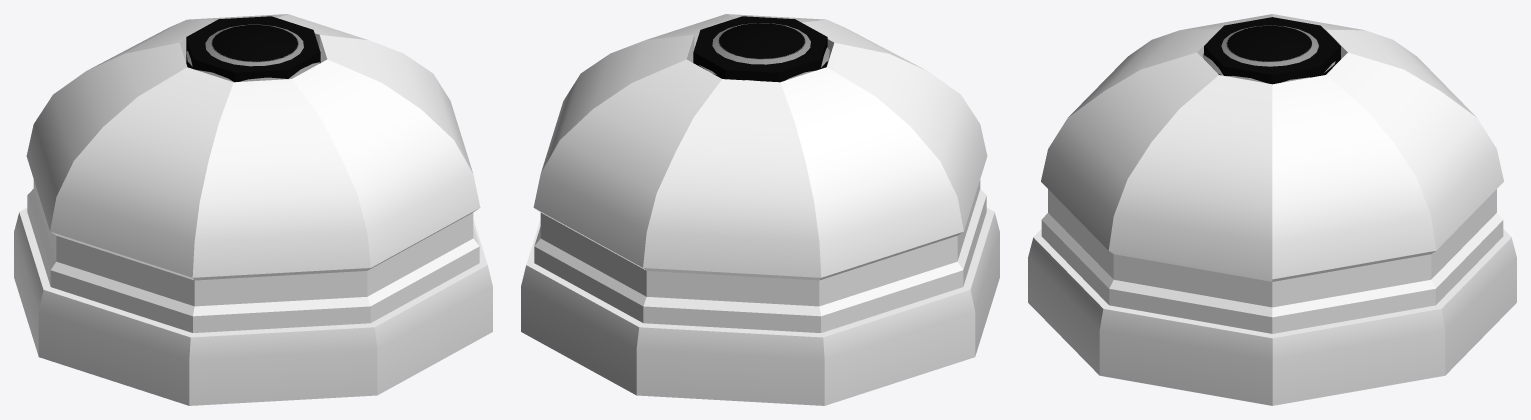
Rendered from fisheye_heat_camera.fbx.
The picture shows the model from 3 angles, left to right: view 1: azimuth 30°, elevation 25°; view 2: azimuth 150°, elevation 25°; view 3: azimuth 270°, elevation 25°; orthographic projection.
Visible parts, largest first — view 1: B, C, A; view 2: B, C, A; view 3: B, C, A.
Part boxes in pixels (left/top/right/bottom): B: left=26, top=14, right=480, bottom=332; C: left=14, top=208, right=492, bottom=405; A: left=186, top=16, right=322, bottom=82; B: left=533, top=14, right=987, bottom=332; C: left=521, top=208, right=999, bottom=405; A: left=693, top=16, right=829, bottom=82; B: left=1041, top=14, right=1503, bottom=333; C: left=1028, top=229, right=1516, bottom=405; A: left=1202, top=17, right=1340, bottom=84.
Size of the model in its own units: 10.62 by 6.4 by 10.62.
